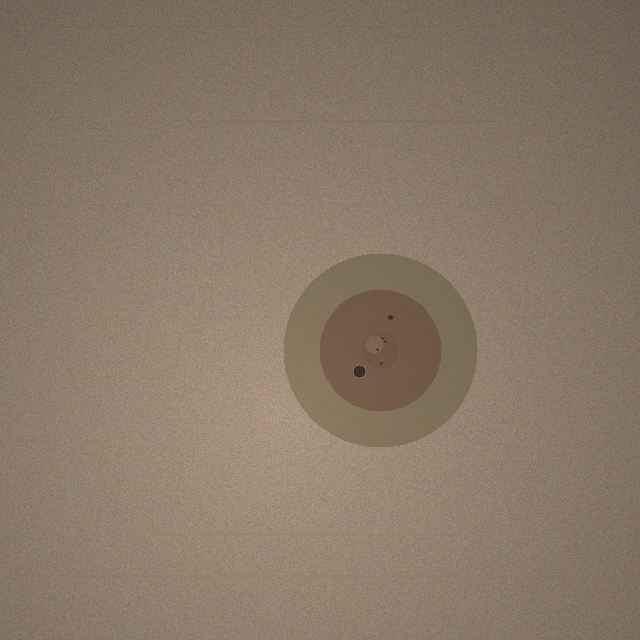shrinkage: (283, 253, 477, 447)
